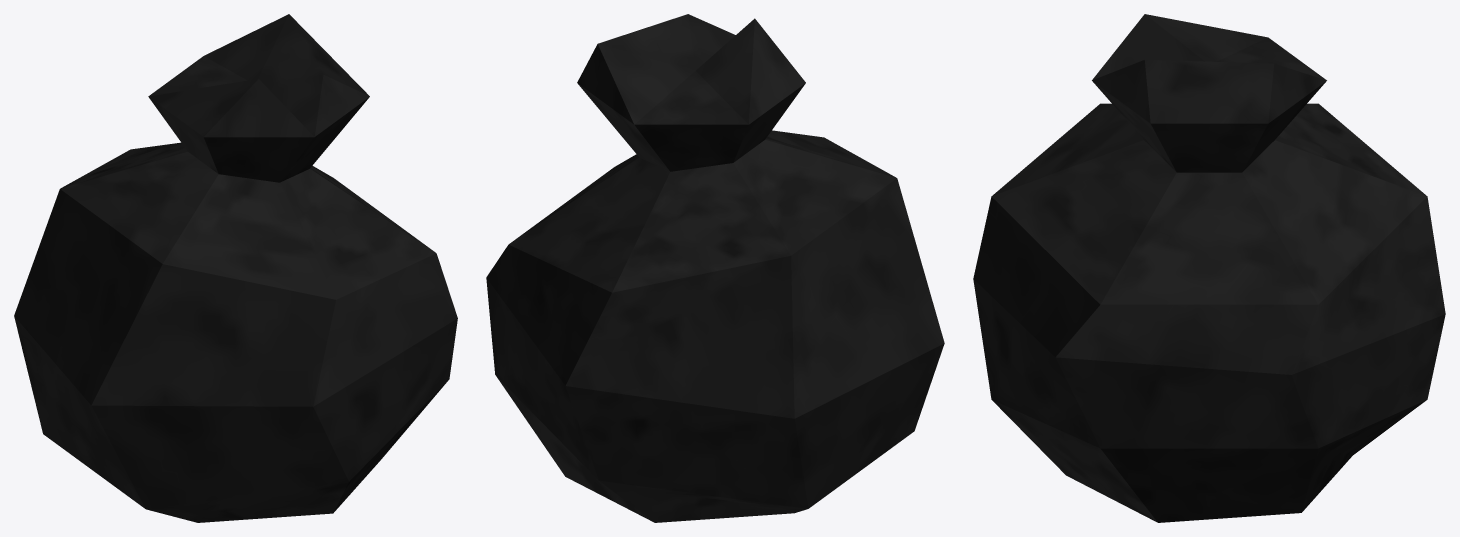
Rendered from trash.fbx.
The picture shows the model from 3 angles, left to right: view 1: azimuth 30°, elevation 25°; view 2: azimuth 150°, elevation 25°; view 3: azimuth 270°, elevation 25°; orthographic projection. The views are drawn at different scales.
Visible parts, largest first — view 1: Цилиндр; view 2: Цилиндр; view 3: Цилиндр.
Part boxes in pixels (x1,y1,x2,y2): Цилиндр: [14, 14, 457, 522]; Цилиндр: [486, 14, 944, 522]; Цилиндр: [973, 14, 1445, 522].
Bounding box in the file's own units: 9.89 × 10.74 × 10.4.
